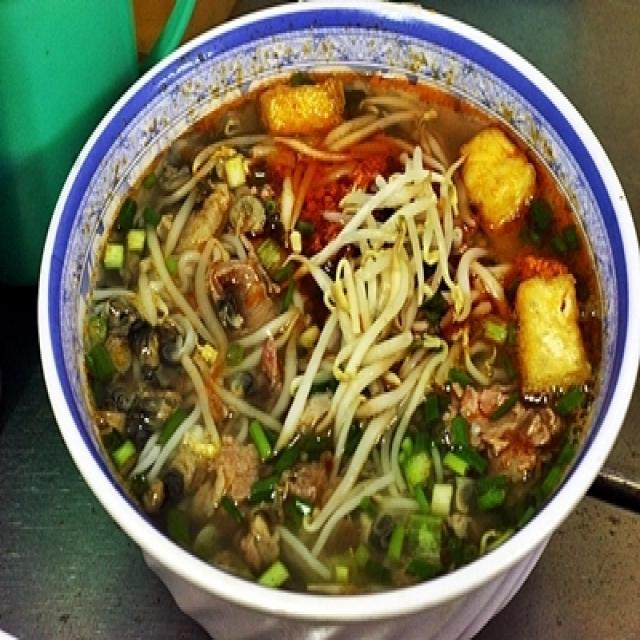面条主食: (26, 14, 635, 624)
